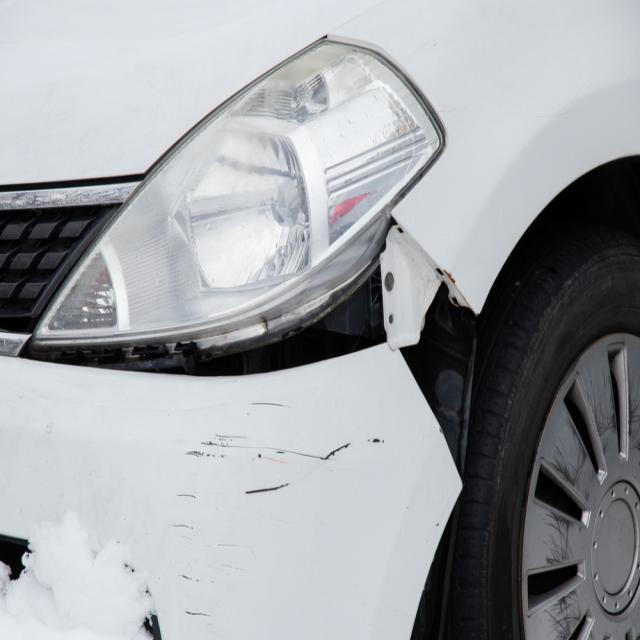scratch: (170, 392, 388, 631)
